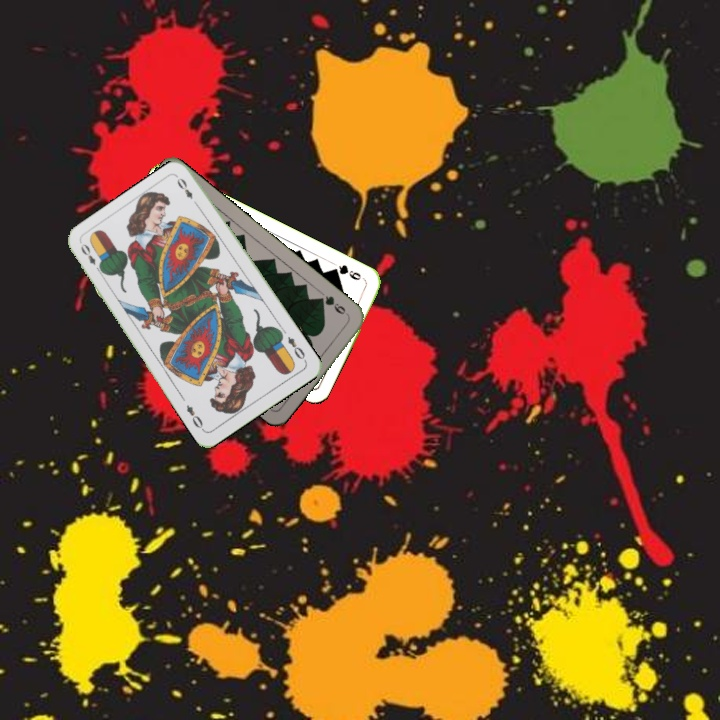EO: (76, 239, 105, 276), (283, 332, 309, 364)
G9: (314, 292, 352, 319), (328, 261, 368, 284)
